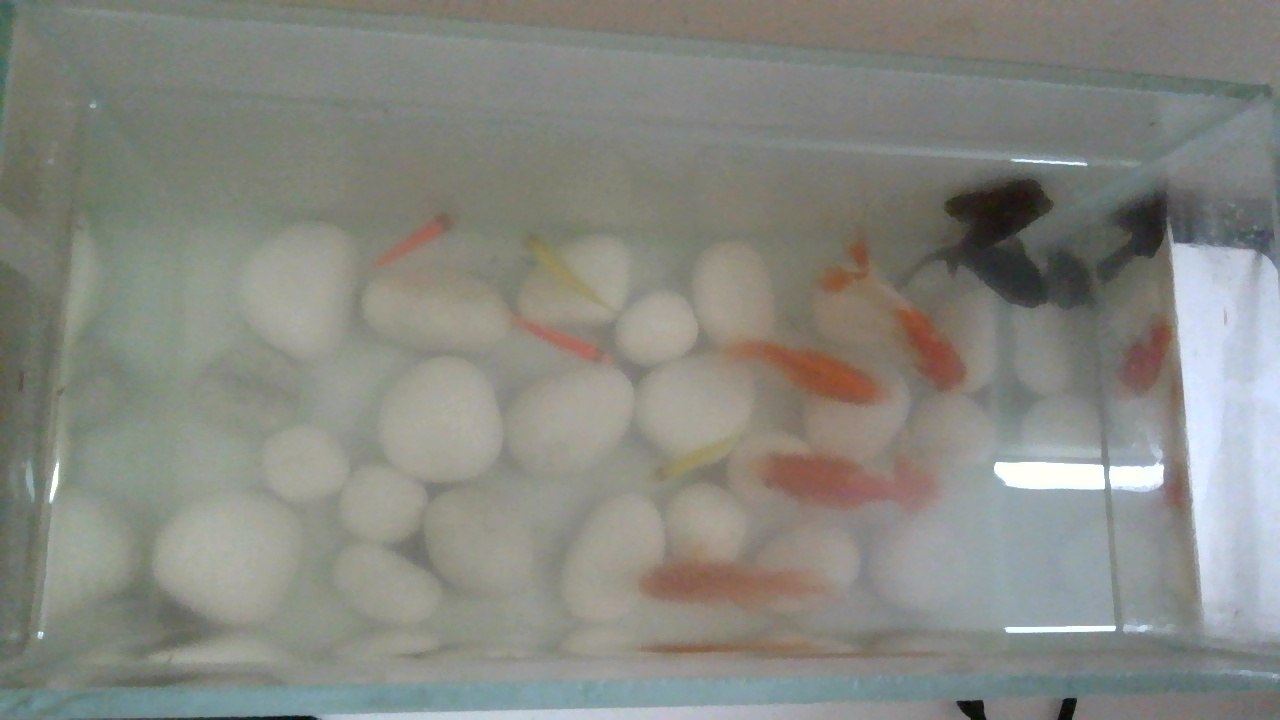fish: (503, 228, 629, 365)
